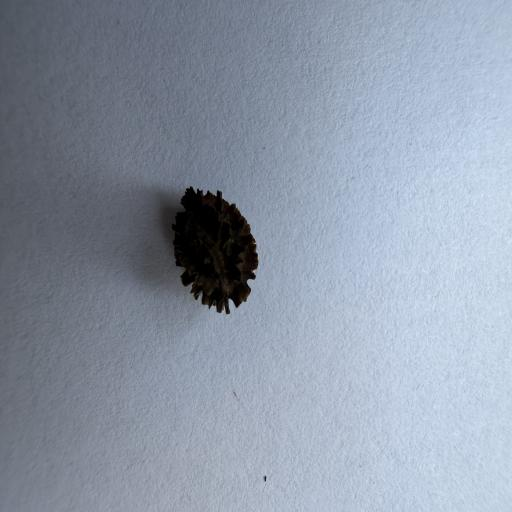papaya_seed: (160, 168, 264, 330)
